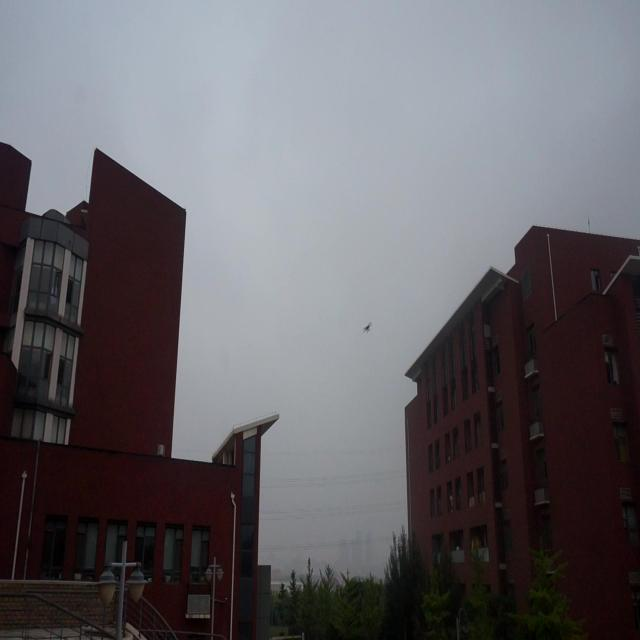drone: (362, 318, 373, 334)
